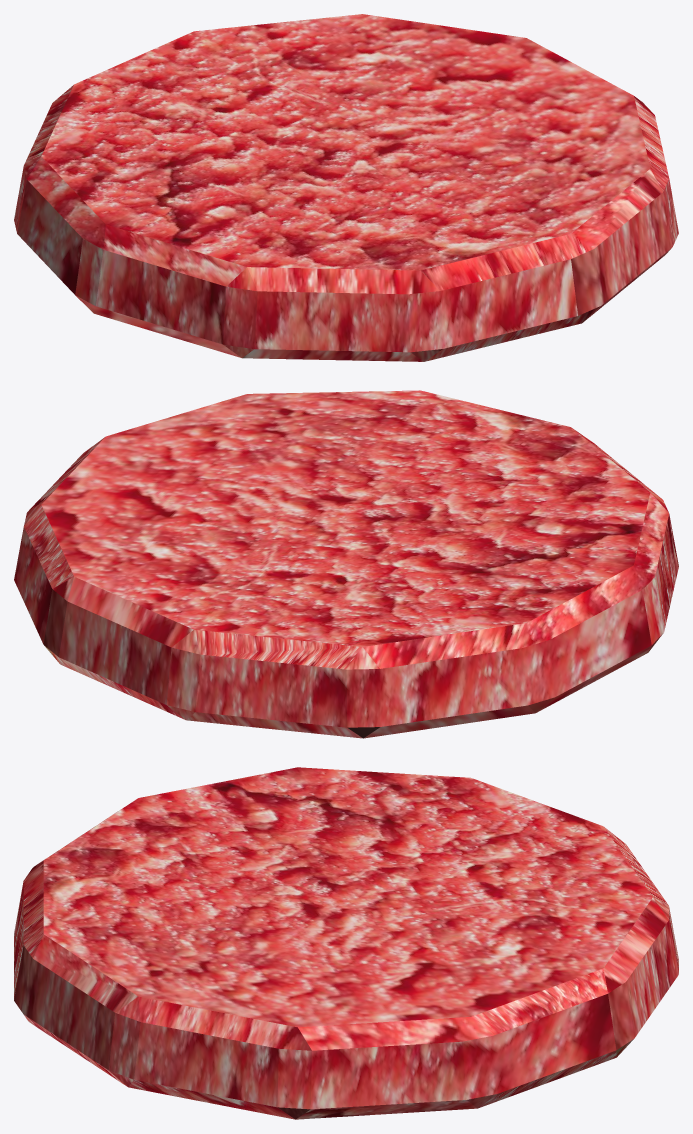
Rendered from burger_raw.fbx.
3 renders of one model, top to bottom at view 1: azimuth 30°, elevation 25°; view 2: azimuth 150°, elevation 25°; view 3: azimuth 270°, elevation 25°, orthographic.
Parts seen in each view (by area): view 1: Burger; view 2: Burger; view 3: Burger.
Boxes of the visible parts, x1,y1,x2,y2 form: Burger: [14, 14, 678, 361]; Burger: [14, 390, 678, 738]; Burger: [14, 767, 678, 1119].
Bounding box in the file's own units: 23.15 × 3.26 × 22.91.
